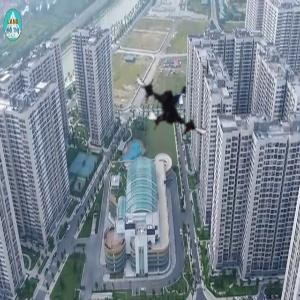drone: (128, 47, 227, 146)
